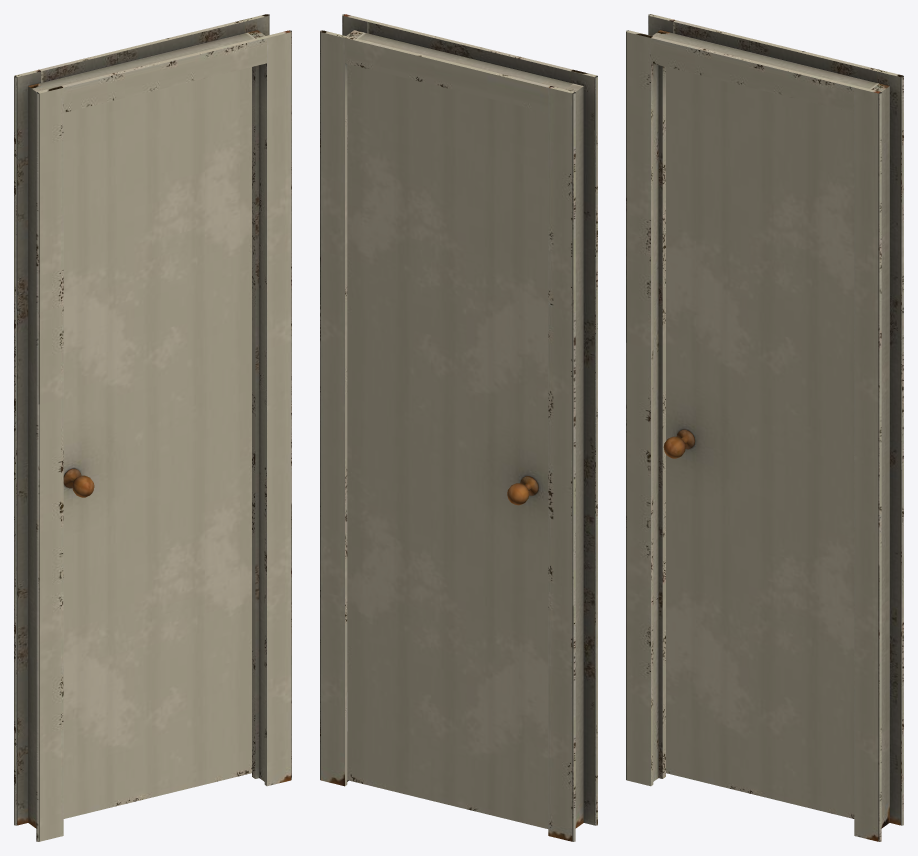
Rendered from door_flat_narrow_web.glb.
The picture shows the model from 3 angles, left to right: view 1: azimuth 30°, elevation 25°; view 2: azimuth 150°, elevation 25°; view 3: azimuth 330°, elevation 25°; orthographic projection.
Parts seen in each view (by area): view 1: Door_Mesh, DoorFlatNarrow_Frame; view 2: Door_Mesh, DoorFlatNarrow_Frame; view 3: Door_Mesh, DoorFlatNarrow_Frame.
Part boxes in pixels (left/top/right/bottom): Door_Mesh: left=63, top=67, right=251, bottom=818; DoorFlatNarrow_Frame: left=14, top=14, right=291, bottom=841; Door_Mesh: left=347, top=64, right=548, bottom=828; DoorFlatNarrow_Frame: left=320, top=14, right=597, bottom=841; Door_Mesh: left=663, top=67, right=854, bottom=818; DoorFlatNarrow_Frame: left=626, top=14, right=903, bottom=841.
Bounding box in the file's own units: 0.7419 × 2.07 × 0.212.
Materials: 1 (1 with a texture image).
